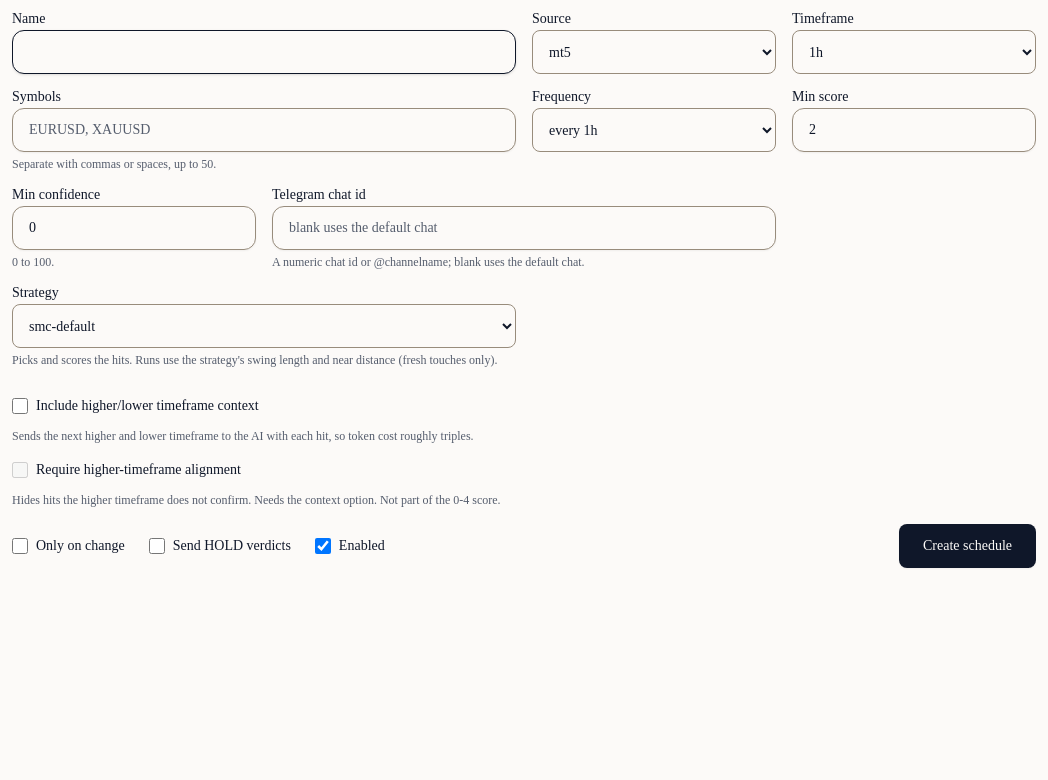
Test: ScheduleForm › submits the typed values to the action
This screenshot has width=1048, height=780.
In the field labelled "Name": (264, 52) [12,30,516,74], type "A"
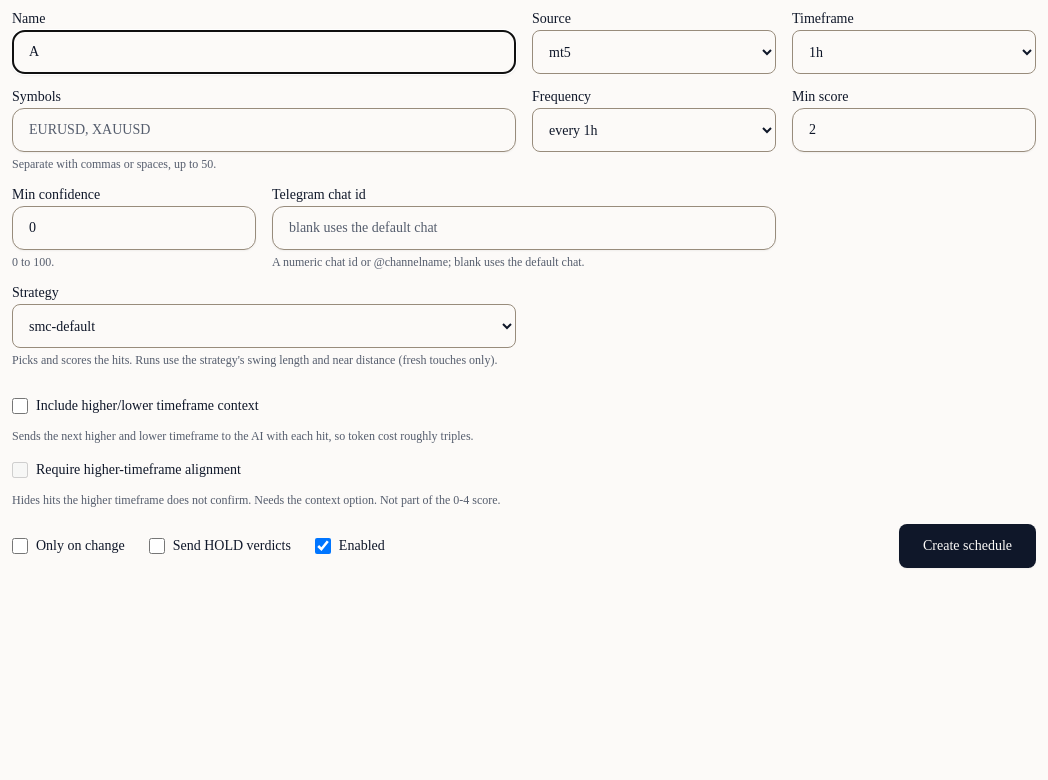
In the field labelled "Symbols": (264, 130) [12,108,516,152], type "EURUSD"
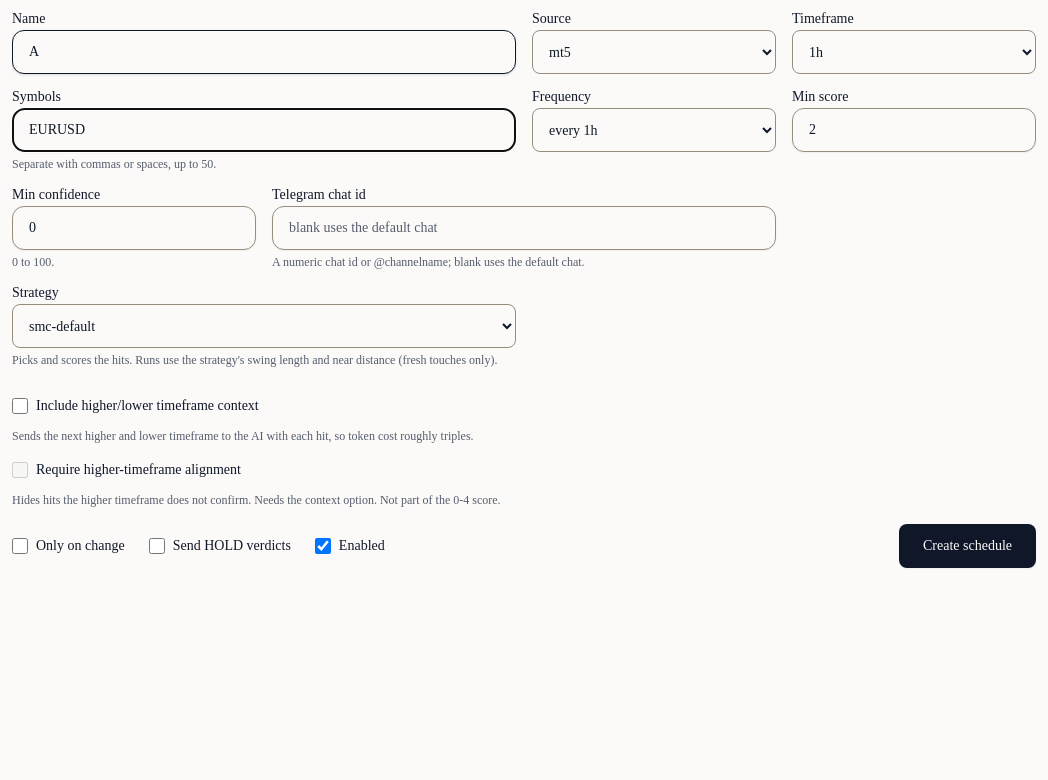
Click the button "Create schedule": (968, 546) [899,524,1036,568]
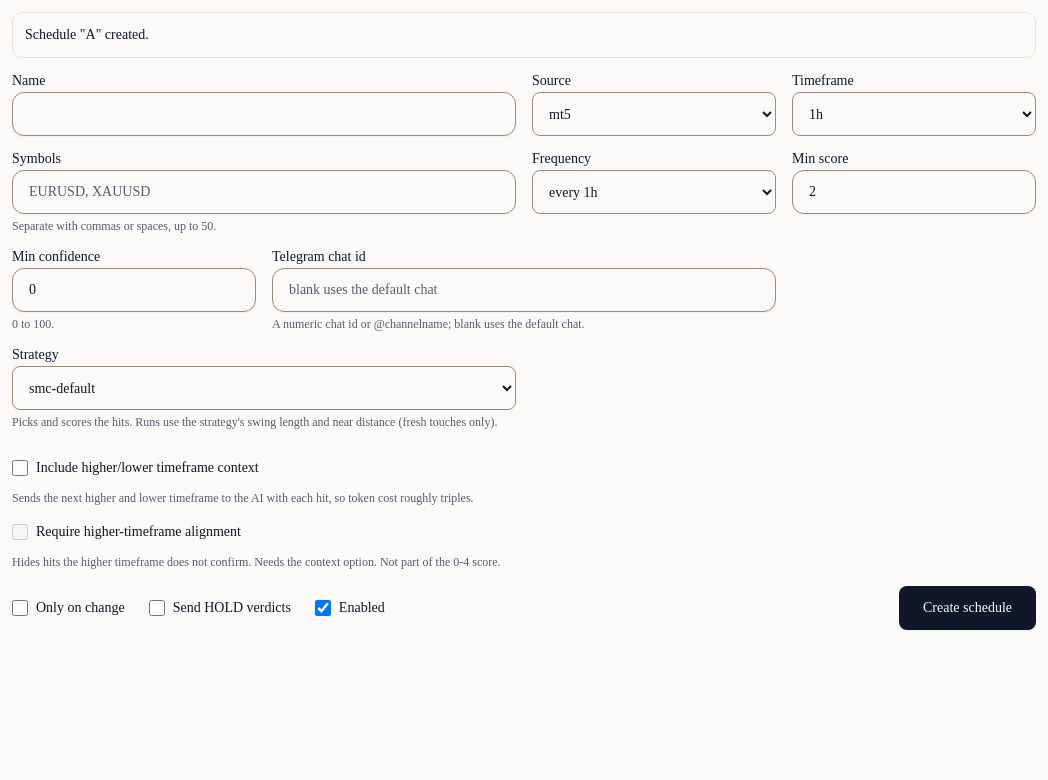
Now the message reads "Schedule \"A\" created.", box [25,27,149,42]
